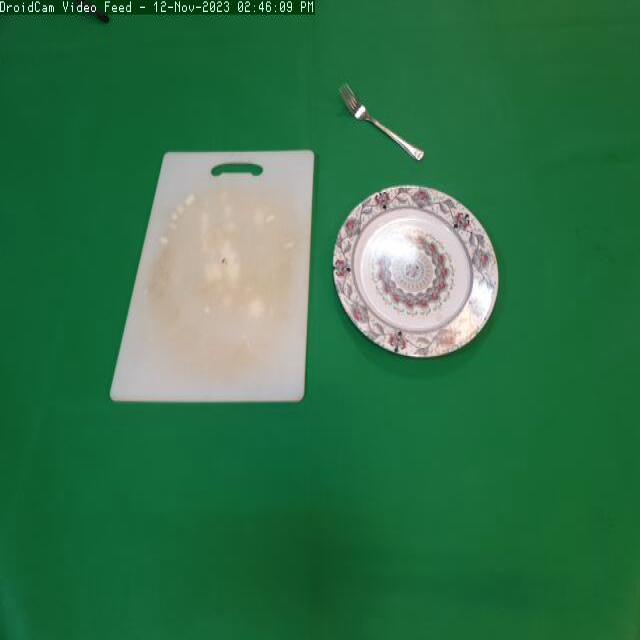cutting board: (102, 138, 318, 420)
fork: (334, 70, 430, 164)
plate: (333, 180, 509, 366)
